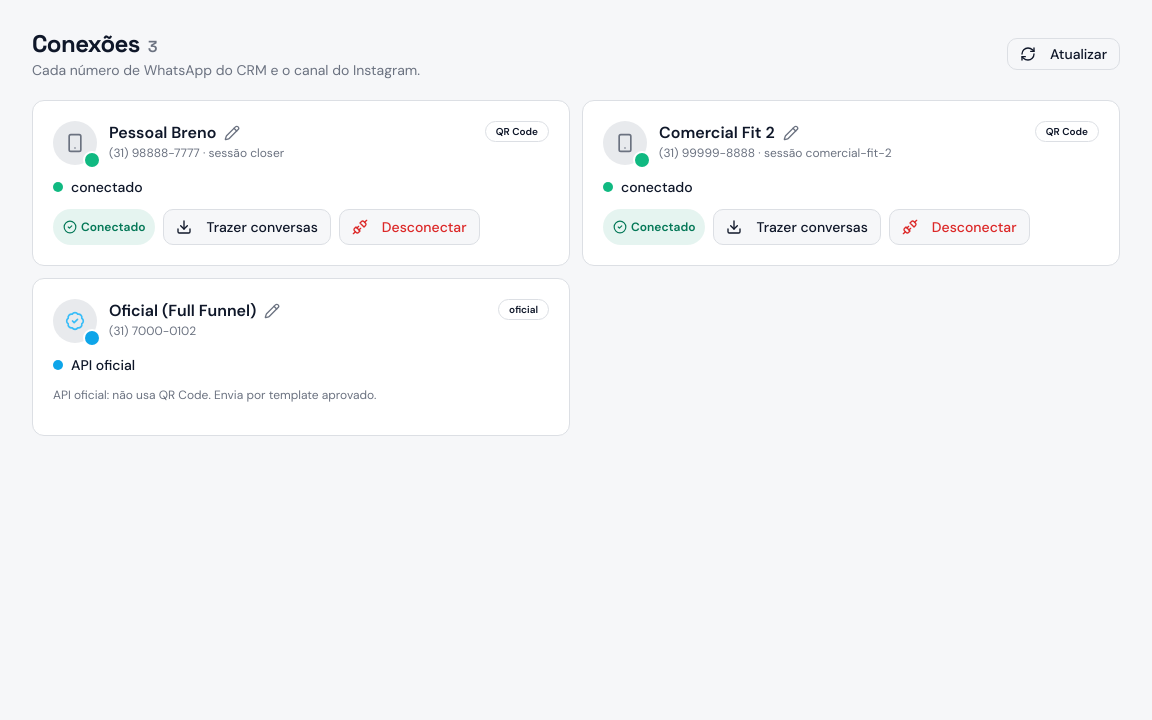
Test: tela Conexões: Desconectar › confirma com nome e número, chama POST desconectar e o cartão volta com Conectar
Click the button "Desconectar" below "(31) 99999-8888". click: x=959, y=227
box: [889,209,1030,245]
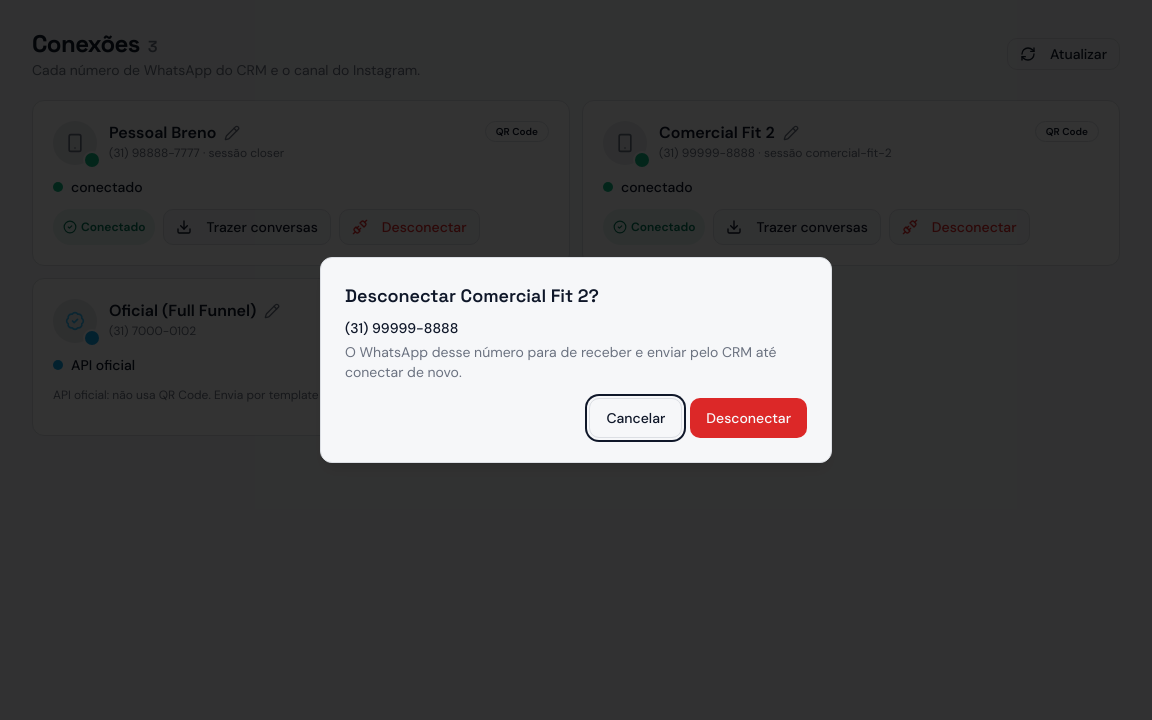
Result: the heading "Desconectar Comercial Fit 2?" is shown at [345,284,599,307]
Result: the dialog with test id "confirmar-desconexao" shows "(31) 99999-8888" at [345,319,458,337]
Result: the dialog with test id "confirmar-desconexao" shows "O WhatsApp desse número para de receber e enviar pelo CRM até conectar de novo." at [345,343,776,381]
Click the button "Desconectar". click: x=749, y=418
box: [690,398,807,438]
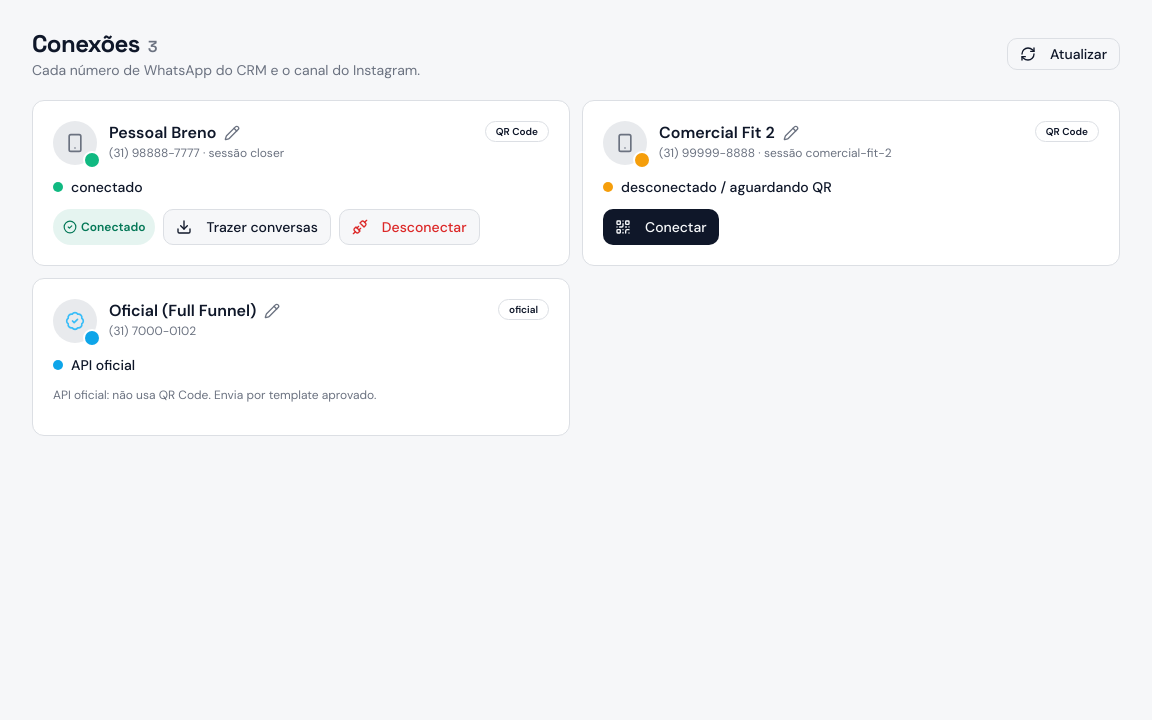
Expected: the button "Conectar" is shown, [603,209,719,245]
Result: the dialog with test id "confirmar-desconexao" is gone
Result: the element with test id "cartao-conexao" shows "desconectado / aguardando QR" at [621,178,832,196]
